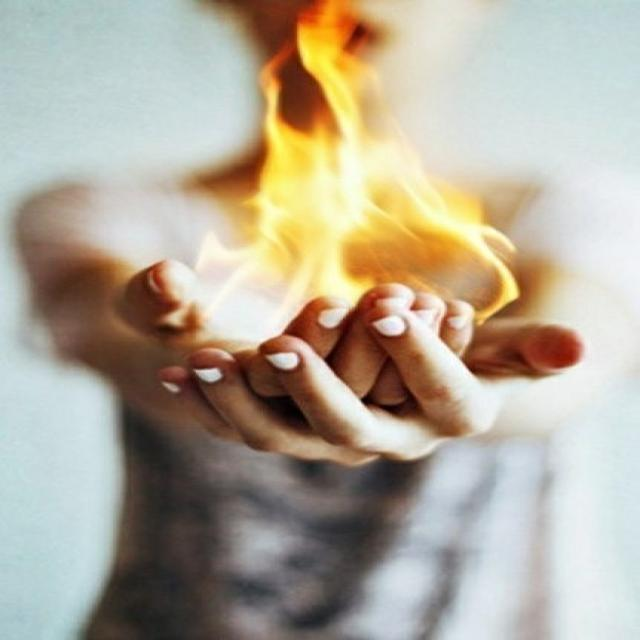Fire: (173, 0, 572, 353)
